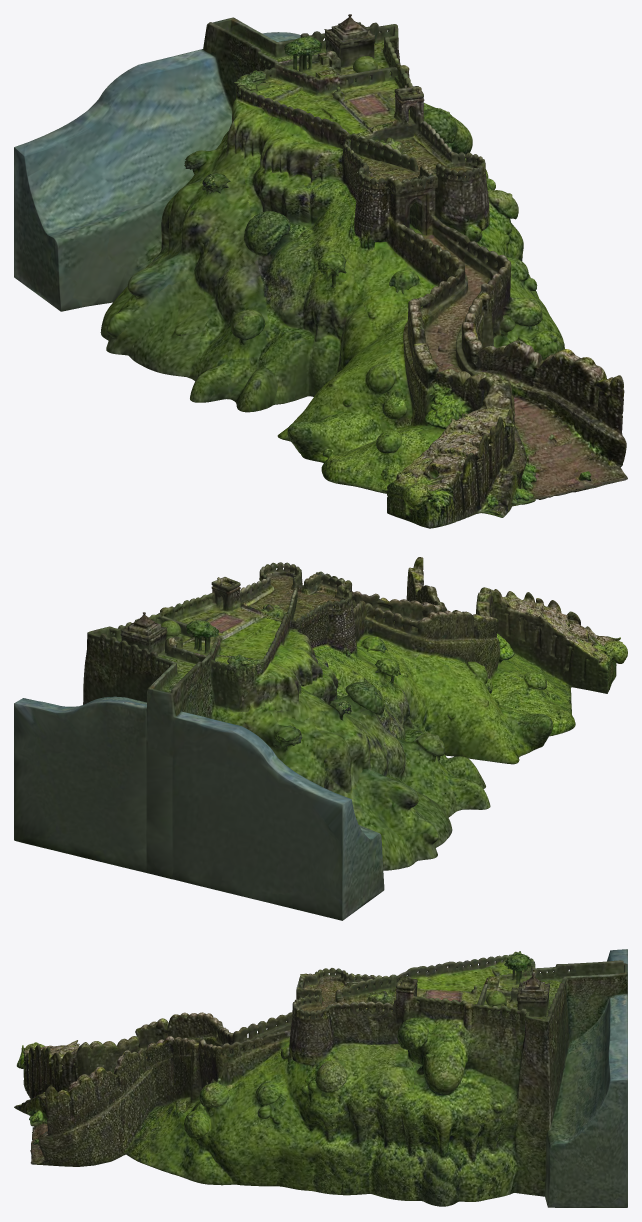
The model's file is panhala.glb.
The picture shows the model from 3 angles, top to bottom: view 1: azimuth 30°, elevation 25°; view 2: azimuth 150°, elevation 25°; view 3: azimuth 270°, elevation 25°; orthographic projection. The views are drawn at different scales.
Parts seen in each view (by area): view 1: tripo_node_bf132769-7dd0-47c5-bd82-b83cfa5ac085; view 2: tripo_node_bf132769-7dd0-47c5-bd82-b83cfa5ac085; view 3: tripo_node_bf132769-7dd0-47c5-bd82-b83cfa5ac085.
Boxes of the visible parts, bbox=[...] form: tripo_node_bf132769-7dd0-47c5-bd82-b83cfa5ac085: bbox=[14, 14, 627, 528]; tripo_node_bf132769-7dd0-47c5-bd82-b83cfa5ac085: bbox=[14, 557, 627, 920]; tripo_node_bf132769-7dd0-47c5-bd82-b83cfa5ac085: bbox=[14, 949, 627, 1207].
Size of the model in its own units: 0.5772 by 0.351 by 0.9798.
1 material, 1 textured.
